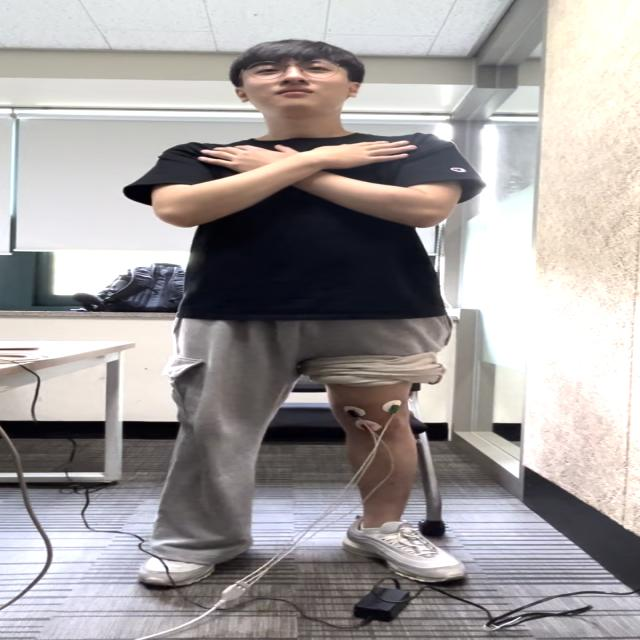stand: (98, 31, 518, 597), (142, 377, 278, 489), (328, 386, 436, 480)
